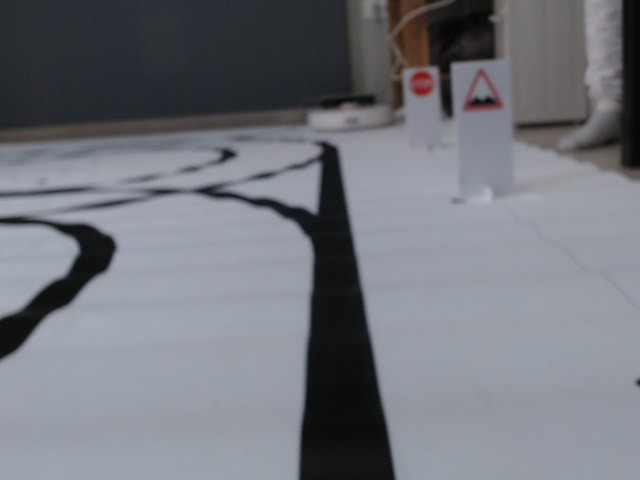Nerov: (460, 67, 503, 112)
